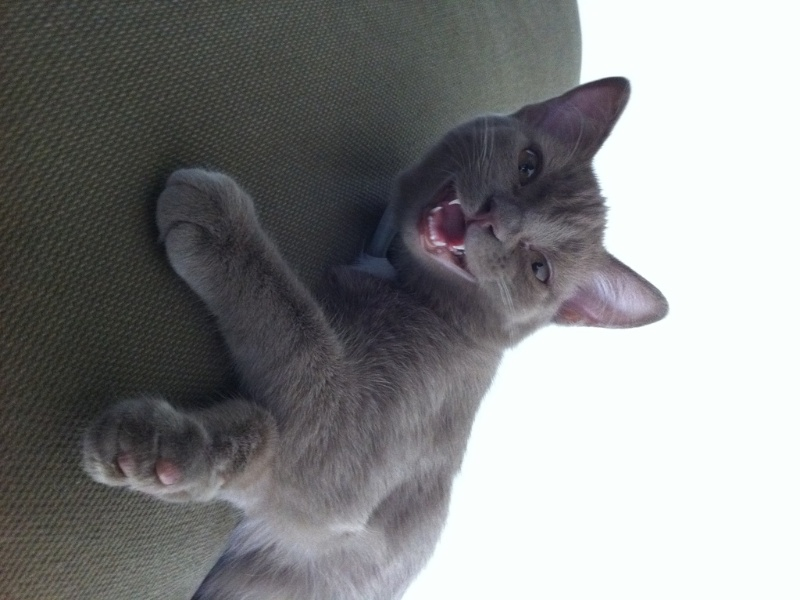cat: (100, 73, 666, 600)
